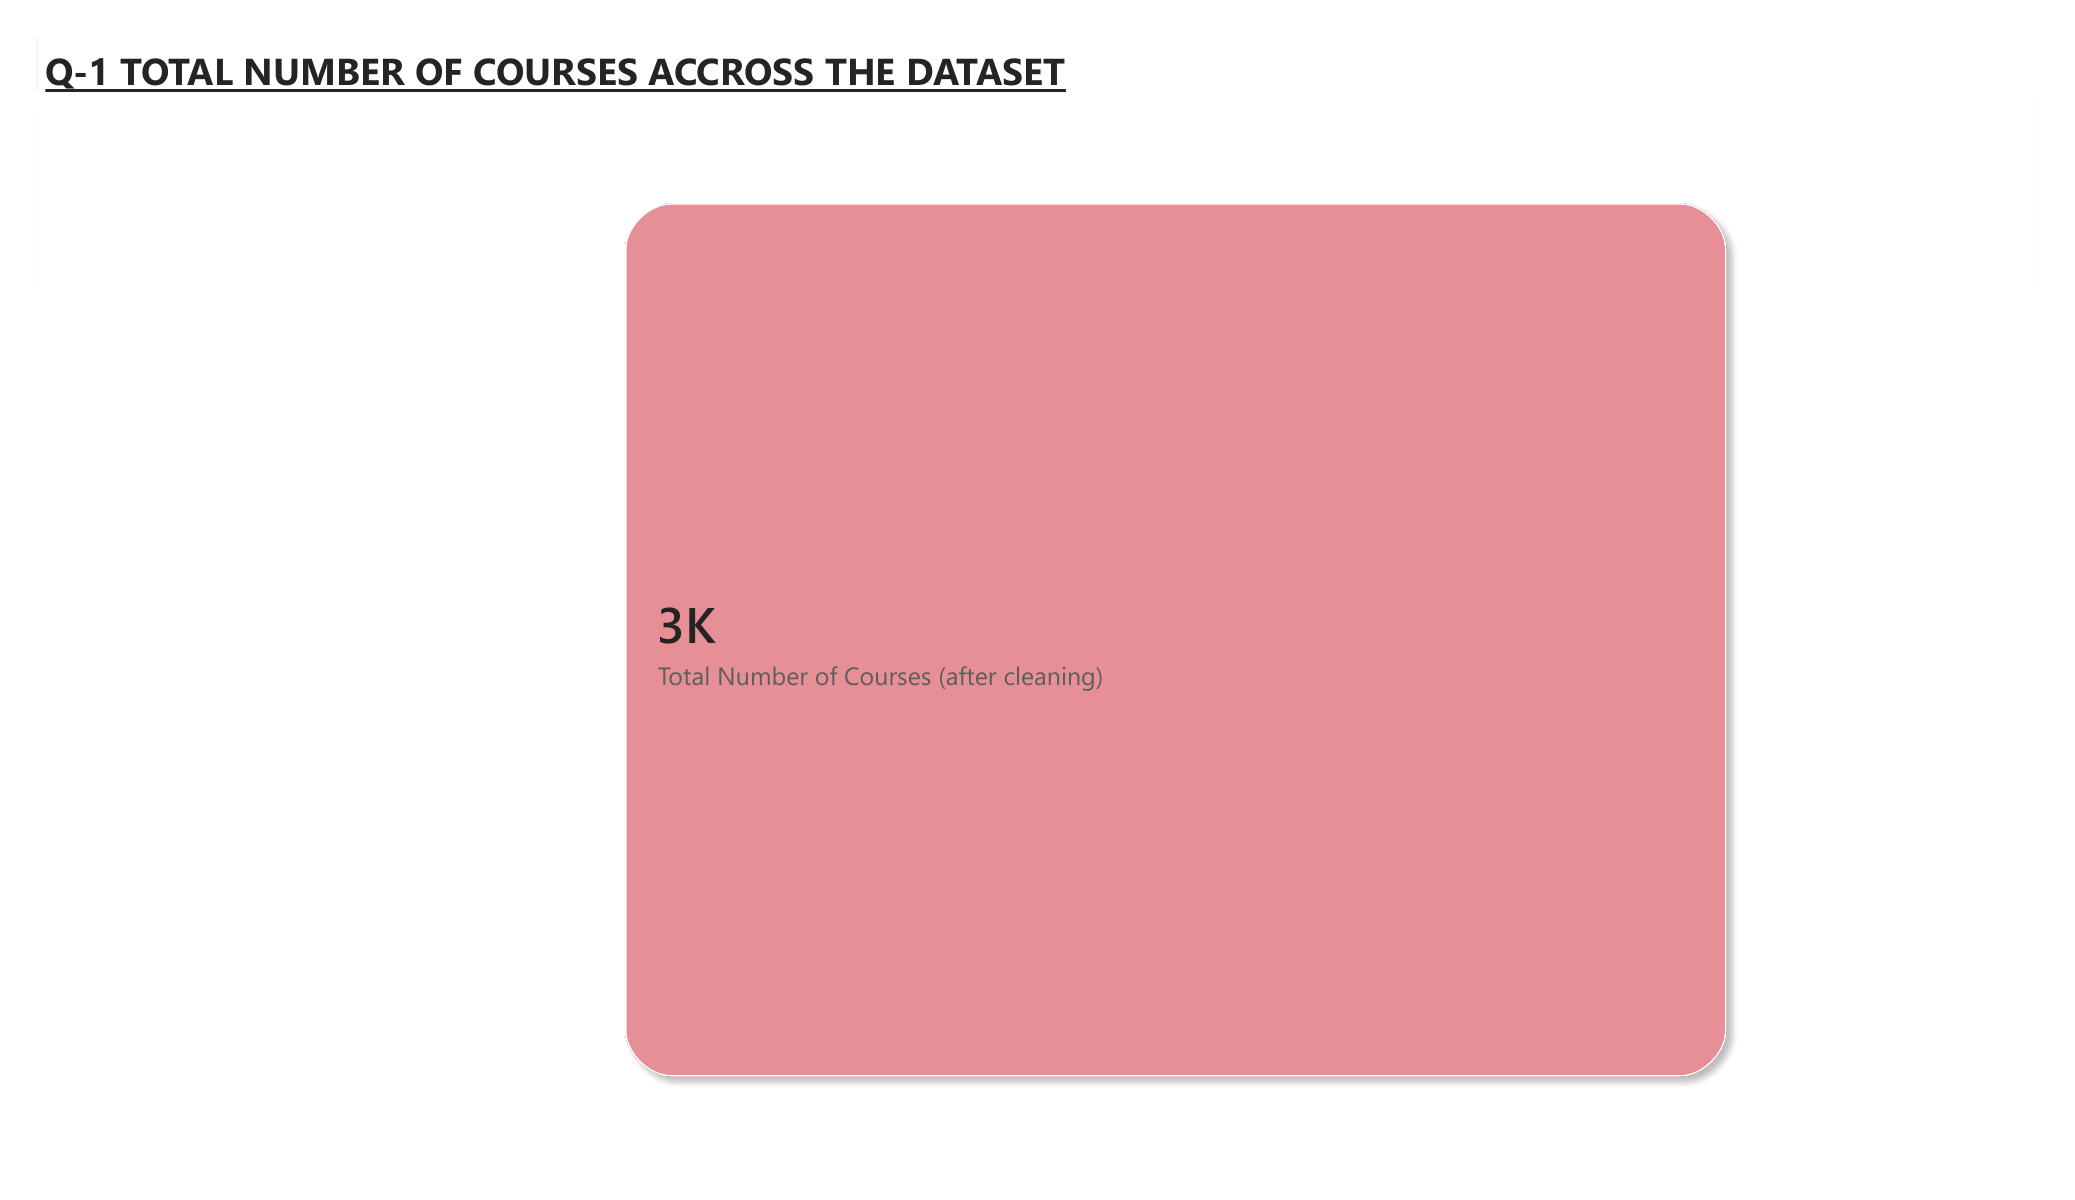

Layout of this report page (visuals, bound fields, positions):
{"tool":"powerbi","page":{"name":"Q-1","canvas":[1280,720],"ordinal":1},"visuals":[{"type":"cardVisual","title":"Question - 1","fields":{"Data":["Online_Courses.Total Number of Courses (after cleaning)"]},"box":[347.2,76.8,763,617.5],"z":0},{"type":"textbox","box":[0,0,728.6,48],"z":1000}]}

Visuals, with their boxes on the page's 1280x720 design canvas (x1, y1, x2, y2). These are canvas units, not pixel positions in the 2075x1200 screenshot, which may show the page scaled, cropped or inside an application window:
"Question - 1" cardVisual: <bbox>347, 77, 1110, 694</bbox>
textbox: <bbox>0, 0, 729, 48</bbox>
